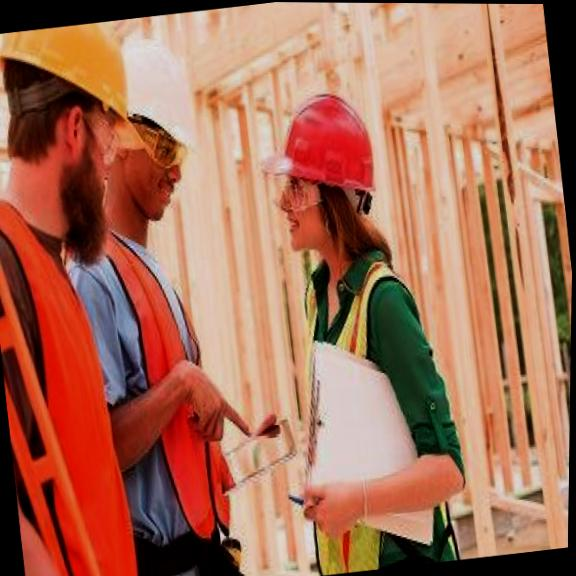safety_vest: (293, 259, 483, 576), (0, 197, 147, 576), (101, 208, 251, 537)
